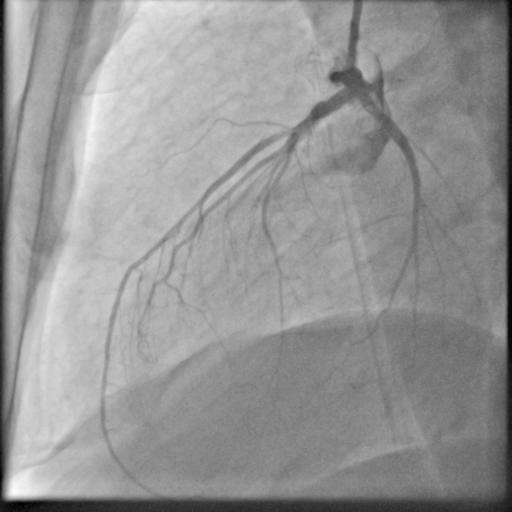Stenosis: (291, 111, 316, 132)
